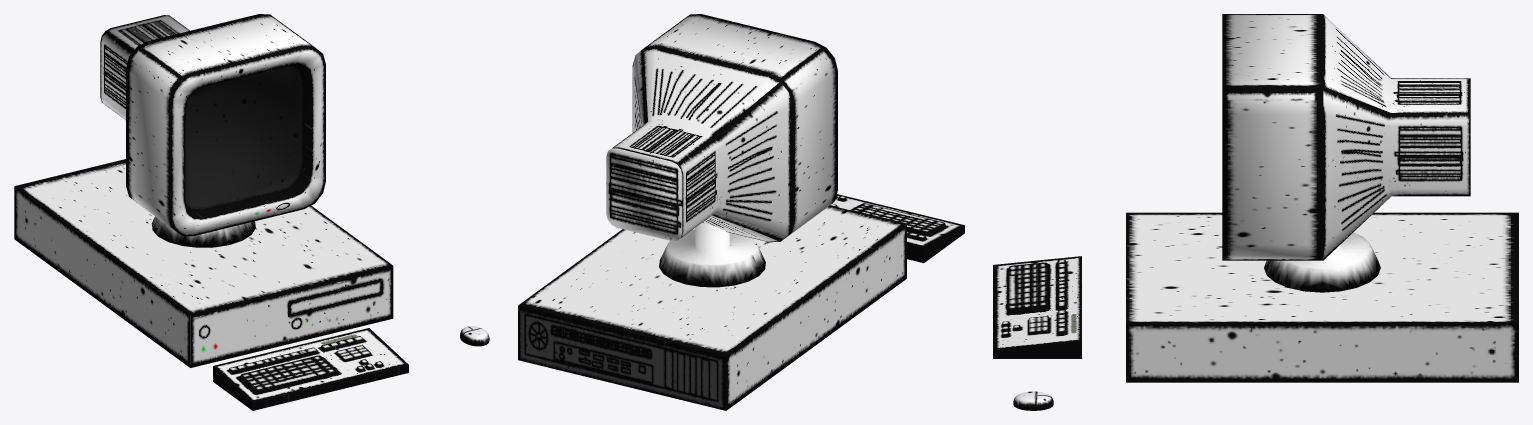
Rendered from 90s_computer.obj.
The picture shows the model from 3 angles, left to right: view 1: azimuth 30°, elevation 25°; view 2: azimuth 150°, elevation 25°; view 3: azimuth 270°, elevation 25°; orthographic projection. The views are drawn at different scales.
Visible parts, largest first — view 1: Monitor, PC, Keyboard, Mouse; view 2: Monitor, PC, Keyboard; view 3: PC, Monitor, Keyboard, Mouse.
Part boxes in pixels (left/top/right/bottom): Monitor: left=100, top=14, right=325, bottom=247; PC: left=14, top=159, right=393, bottom=367; Keyboard: left=213, top=328, right=408, bottom=410; Mouse: left=460, top=326, right=489, bottom=346; Monitor: left=606, top=14, right=837, bottom=287; PC: left=518, top=205, right=906, bottom=410; Keyboard: left=830, top=194, right=964, bottom=263; PC: left=1126, top=212, right=1518, bottom=382; Monitor: left=1222, top=14, right=1470, bottom=292; Keyboard: left=993, top=256, right=1081, bottom=358; Mouse: left=1013, top=391, right=1053, bottom=410.
Bounding box in the file's own units: 3.29 × 3.1 × 5.26.
